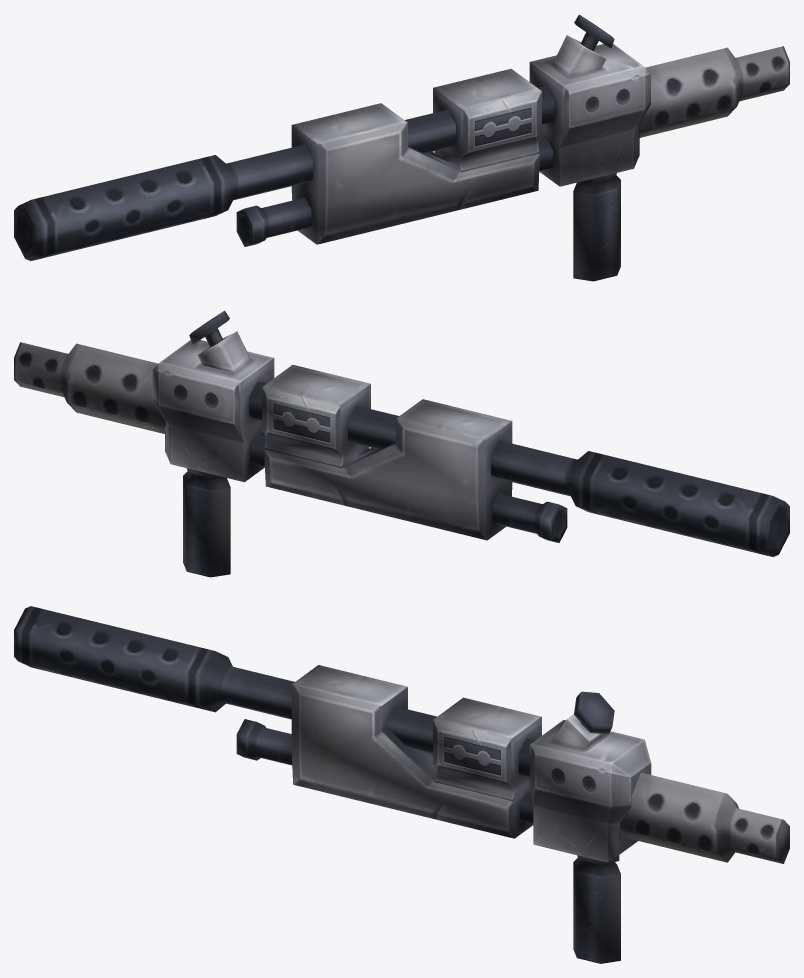
Rendered from Rifle_21.FBX.
3 renders of one model, top to bottom at view 1: azimuth 30°, elevation 25°; view 2: azimuth 150°, elevation 25°; view 3: azimuth 330°, elevation 25°, orthographic.
Parts seen in each view (by area): view 1: Rifle; view 2: Rifle; view 3: Rifle.
Boxes of the visible parts, bbox=[...] form: Rifle: bbox=[14, 14, 789, 281]; Rifle: bbox=[14, 310, 789, 577]; Rifle: bbox=[14, 606, 789, 963].
Size of the model in its own units: 50.25 by 16.43 by 3.9.
